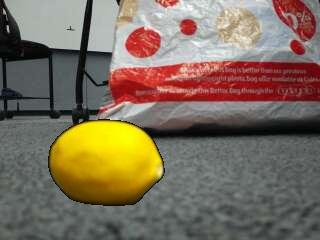lemon: (49, 120, 163, 205)
